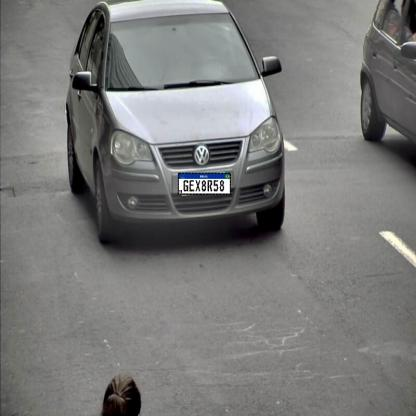PlacaM: (178, 172, 231, 194)
